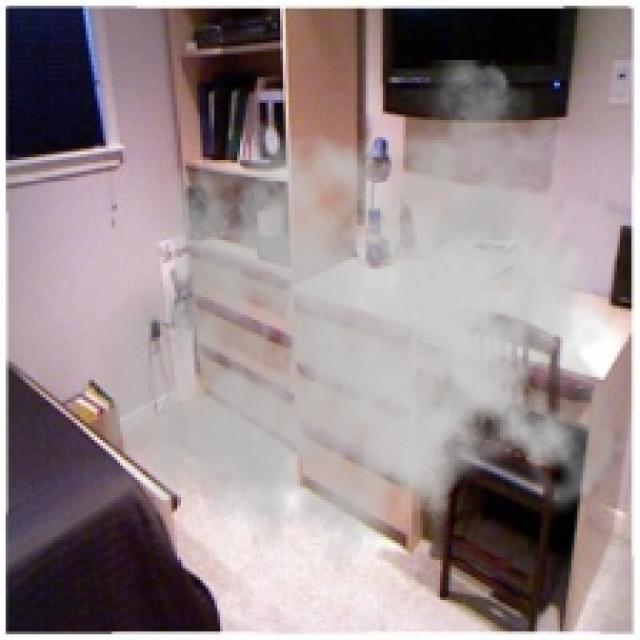smoke: (94, 60, 632, 603)
